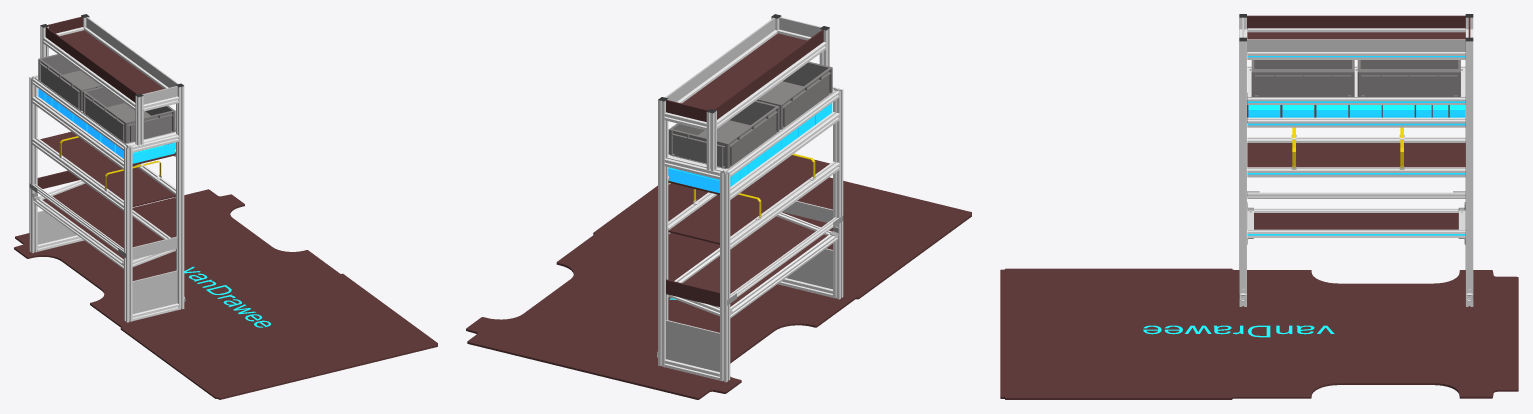
File: vd_export_renault_master_l2h2_3682_mm_f25e35eb.glb
3 renders of one model, left to right at view 1: azimuth 30°, elevation 25°; view 2: azimuth 150°, elevation 25°; view 3: azimuth 270°, elevation 25°, orthographic. The views are drawn at different scales.
Visible parts, largest first — view 1: SomeName_Mesh_0043_2, PR10_1266x395, PR10_1208x388, 45x45x1330_noha (×2), box6417, CUB10_395x260 (×2), PR10_1266x306, 45x45x1700_noha, box6417_2, 45x45x1267_Zx2 (×2), 45x45x1267_Zx2_2 (×2), Multibox_Arc (+11 smaller); view 2: SomeName_Mesh_0043_2, PR10_1266x395, 45x45x1330_noha (×2), PR10_1208x388, box6417_2, CUB10_395x260 (×2), PR10_1266x306, 45x45x1700_noha, box6417, 45x45x1267_Zx2 (×2), 45x45x1267_Zx2_2 (×2), Multibox_Arc (+12 smaller); view 3: SomeName_Mesh_0043_2, PR10_1266x395, 45x45x1267_Zx2 (×3), 45x45x1700_noha (×2), box6417, box6417_2, 45x45x1267_Zx2_2 (×2), PR10_1208x388, PR10_1292x89, CUB10_1292x89, Multibox_Arc, PR10_1266x306 (+6 smaller).
Part boxes in pixels (x1,y1,x2,y2): SomeName_Mesh_0043_2: (14,189,437,399); PR10_1266x395: (40,131,175,206); PR10_1208x388: (43,183,163,259); 45x45x1330_noha (×2): (29,76,132,322); box6417: (82,86,175,143); CUB10_395x260 (×2): (37,210,177,313); PR10_1266x306: (60,30,163,94); 45x45x1700_noha: (176,85,184,309); box6417_2: (38,54,101,110); 45x45x1267_Zx2 (×2): (32,37,135,211); 45x45x1267_Zx2_2 (×2): (32,27,168,169); Multibox_Arc: (38,88,175,163); SomeName_Mesh_0043_2: (466,177,971,399); PR10_1266x395: (668,155,829,244); 45x45x1330_noha (×2): (720,88,843,382); PR10_1208x388: (683,216,826,306); box6417_2: (668,100,779,168); CUB10_395x260 (×2): (666,248,832,372); PR10_1266x306: (682,33,806,109); 45x45x1700_noha: (658,99,668,367); box6417: (756,61,832,129); 45x45x1267_Zx2 (×2): (717,42,839,249); 45x45x1267_Zx2_2 (×2): (677,30,839,199); Multibox_Arc: (668,103,832,193); SomeName_Mesh_0043_2: (1000,268,1518,399); PR10_1266x395: (1247,143,1465,167); 45x45x1267_Zx2 (×3): (1247,28,1465,142); 45x45x1700_noha (×2): (1239,41,1473,306); box6417: (1251,60,1354,96); box6417_2: (1357,60,1460,96); 45x45x1267_Zx2_2 (×2): (1247,52,1465,177); PR10_1208x388: (1254,213,1458,229); PR10_1292x89: (1247,15,1465,29); CUB10_1292x89: (1247,39,1465,53); Multibox_Arc: (1248,105,1465,117); PR10_1266x306: (1247,32,1465,39).
Bounding box in the file's own units: 1777 × 1719 × 3004.
